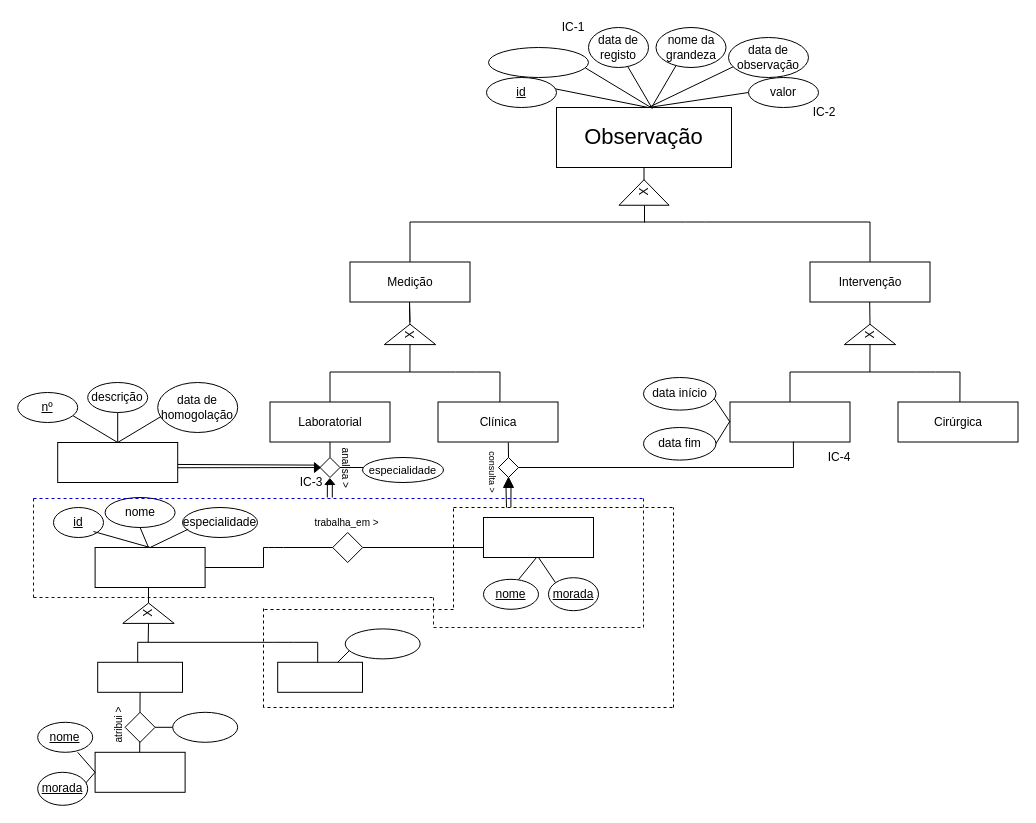
Some shapes in this 1036 by 823 pixel diagram are drawn without their labels. Each missing label, with the box of its shape:
cédula: (344, 628, 420, 659)
diploma: (172, 711, 238, 742)
Escola de formação: (94, 751, 185, 792)
Farmacêutica: (729, 401, 850, 442)
Médico: (277, 661, 362, 692)
nº Cartão de cidadão: (488, 46, 588, 78)
Profissional de saúde: (94, 546, 205, 588)
Protocolo: (57, 442, 178, 482)
Técnico: (97, 661, 182, 692)
Unidade de saúde: (482, 516, 594, 558)
